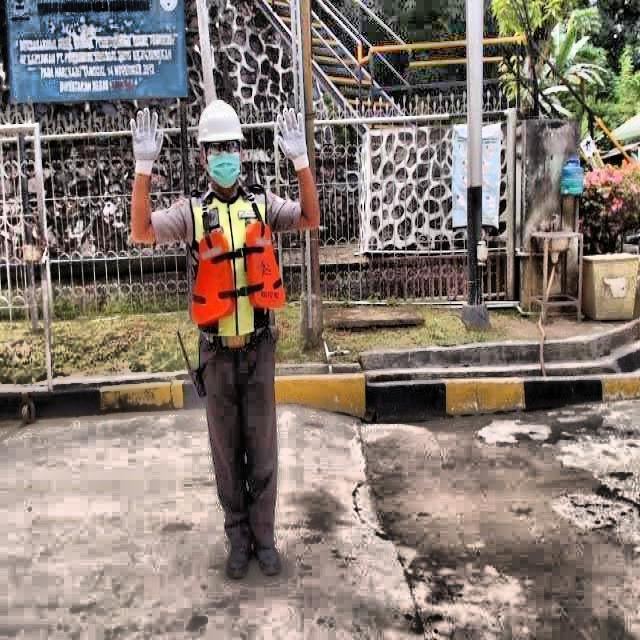safety_jacket: (186, 182, 289, 346)
